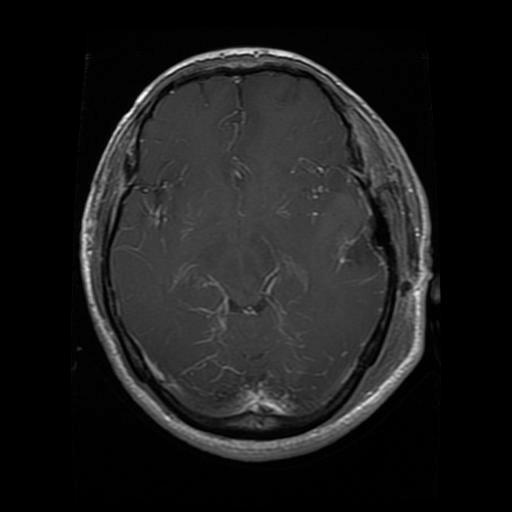Tumour-Glioma: (331, 223, 409, 301)
